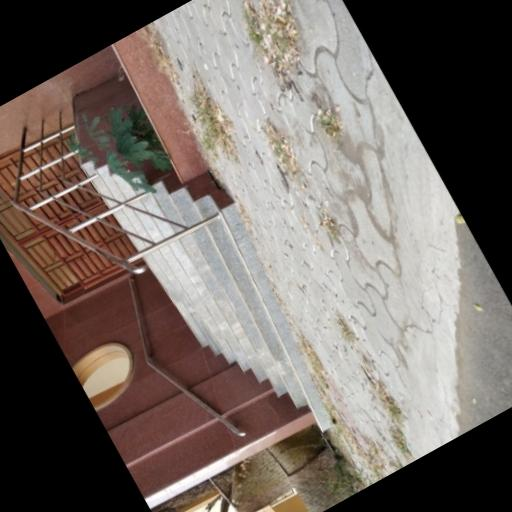stairs: (133, 178, 330, 429)
